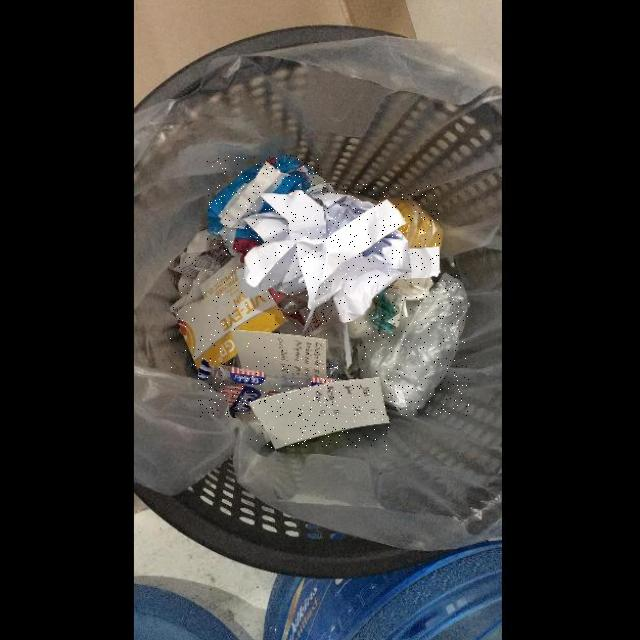paper: (237, 185, 440, 324), (170, 255, 287, 371), (208, 156, 325, 257), (251, 377, 391, 450), (232, 330, 327, 378)
plastic: (358, 273, 469, 416)
wrapper: (199, 359, 340, 417)
